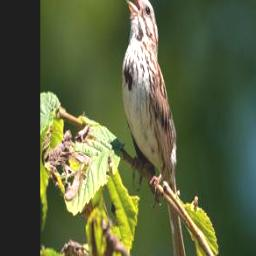Sparrow: (121, 0, 188, 256)
